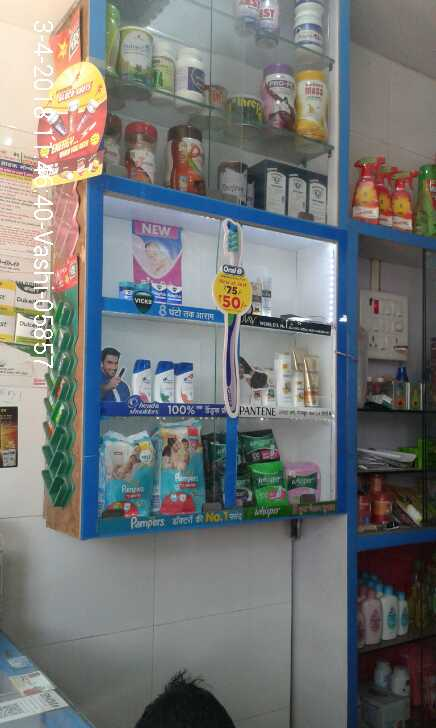vicks: (117, 276, 183, 305)
